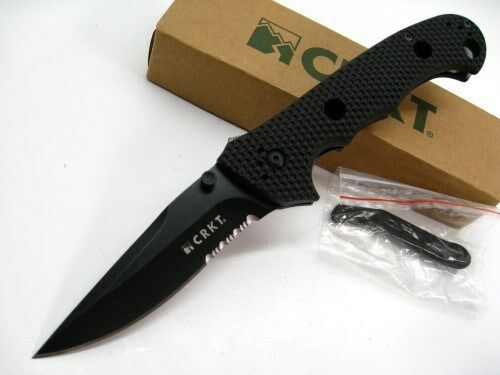knief: (33, 17, 483, 363)
